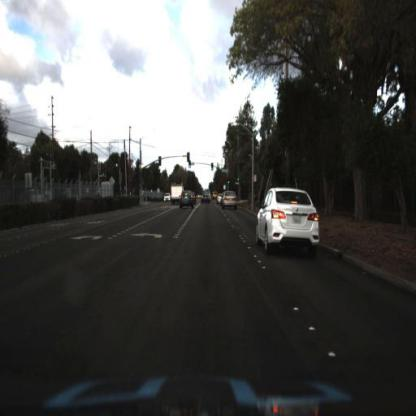car: (255, 183, 328, 269), (178, 196, 197, 220), (221, 190, 238, 208), (201, 190, 215, 206)
trafficLight-Green: (237, 171, 241, 186)
truck: (170, 180, 187, 206), (172, 181, 184, 206)
